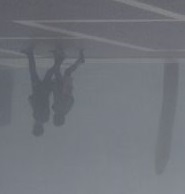person: (19, 45, 57, 137), (51, 49, 86, 126)
